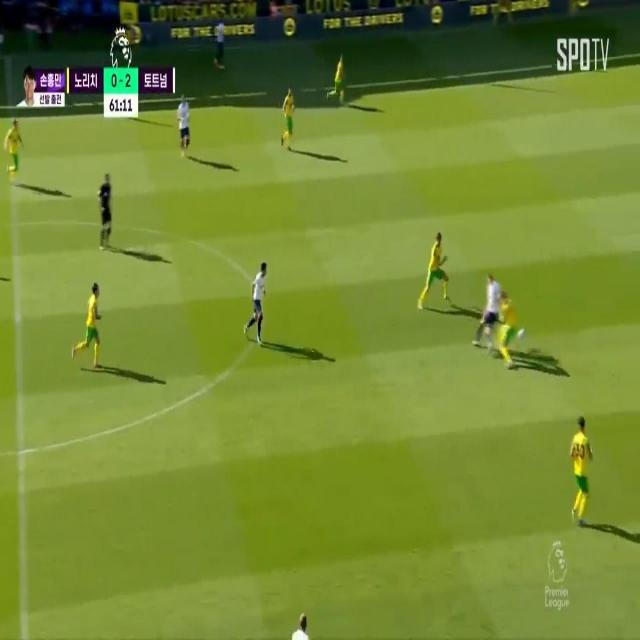ball: (517, 324, 528, 346)
player: (569, 419, 594, 519), (248, 255, 271, 343), (83, 282, 103, 378), (497, 285, 516, 370), (477, 270, 499, 340), (429, 227, 448, 305), (280, 91, 301, 157), (177, 93, 196, 160), (213, 8, 228, 88), (330, 49, 348, 111), (290, 604, 316, 640), (5, 113, 19, 177)
referee: (95, 169, 119, 252)
